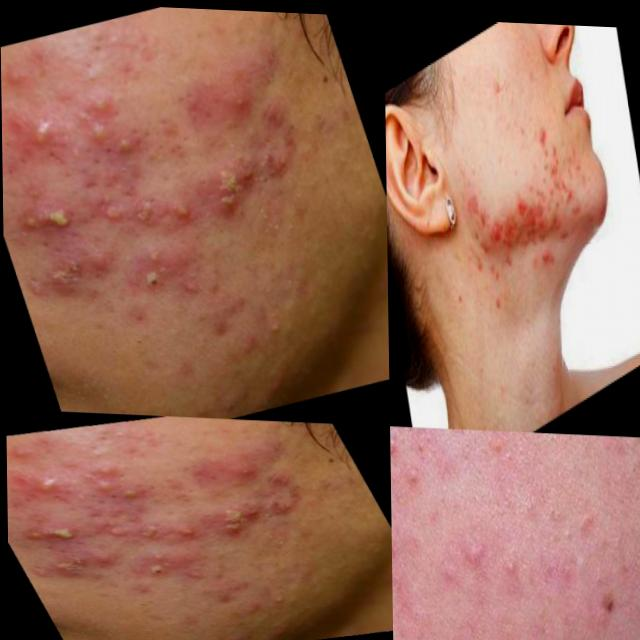8: (1, 45, 60, 109), (213, 71, 275, 130), (390, 499, 417, 586), (6, 435, 64, 472), (218, 452, 279, 487), (546, 139, 578, 203), (80, 244, 116, 287), (480, 203, 506, 258), (83, 548, 120, 573), (534, 112, 555, 154)
9: (258, 310, 300, 353), (390, 504, 409, 571), (261, 588, 304, 613), (33, 121, 60, 150), (91, 92, 119, 118), (143, 239, 169, 267), (119, 137, 146, 163), (93, 121, 115, 152), (37, 478, 64, 495), (95, 462, 124, 477), (147, 546, 172, 563), (123, 488, 150, 503), (98, 479, 119, 496)
blackheads: (194, 146, 271, 225), (498, 175, 545, 263), (10, 196, 81, 251), (120, 190, 194, 242), (198, 494, 275, 540), (34, 256, 83, 310), (14, 520, 85, 552), (124, 518, 197, 549), (37, 554, 86, 586)
